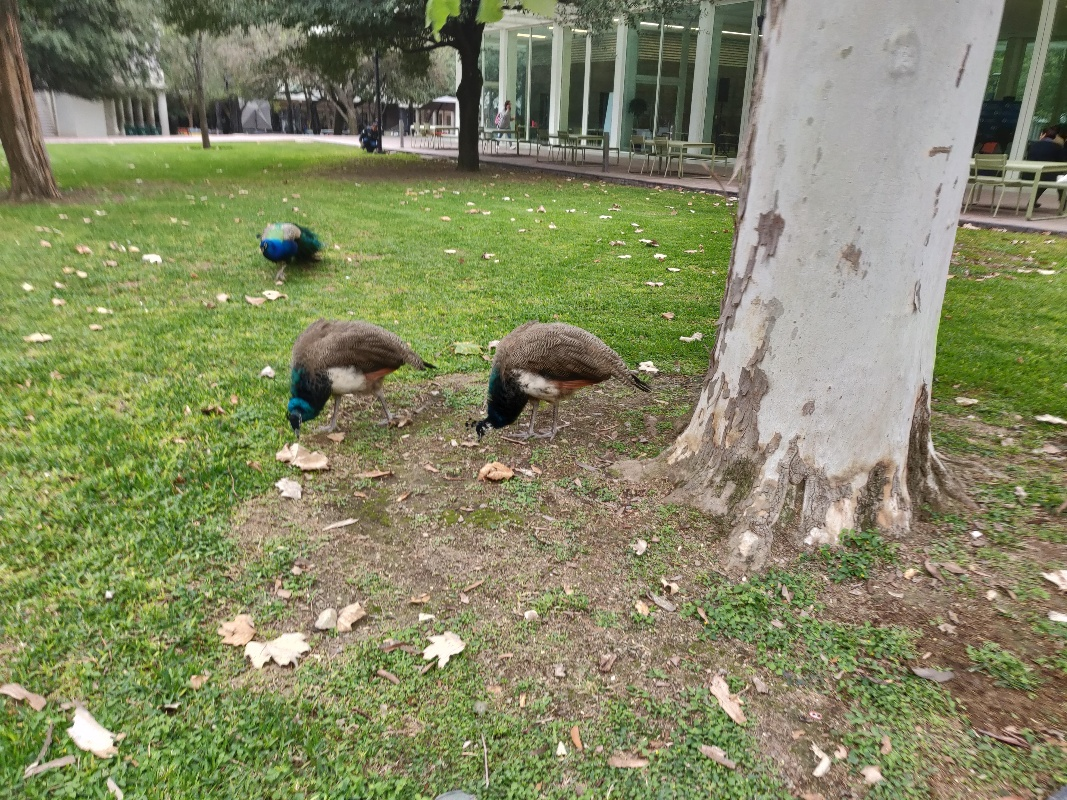pavoreal: (472, 320, 635, 435), (277, 317, 410, 429), (253, 219, 311, 275)
